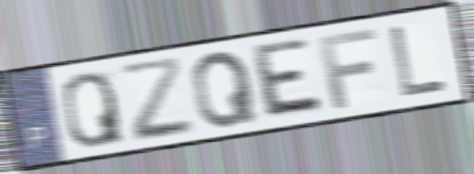E: (251, 35, 328, 121)
F: (316, 25, 380, 112)
L: (387, 23, 451, 100)
Q: (190, 48, 260, 131), (60, 69, 127, 150)
Z: (116, 53, 198, 145)
